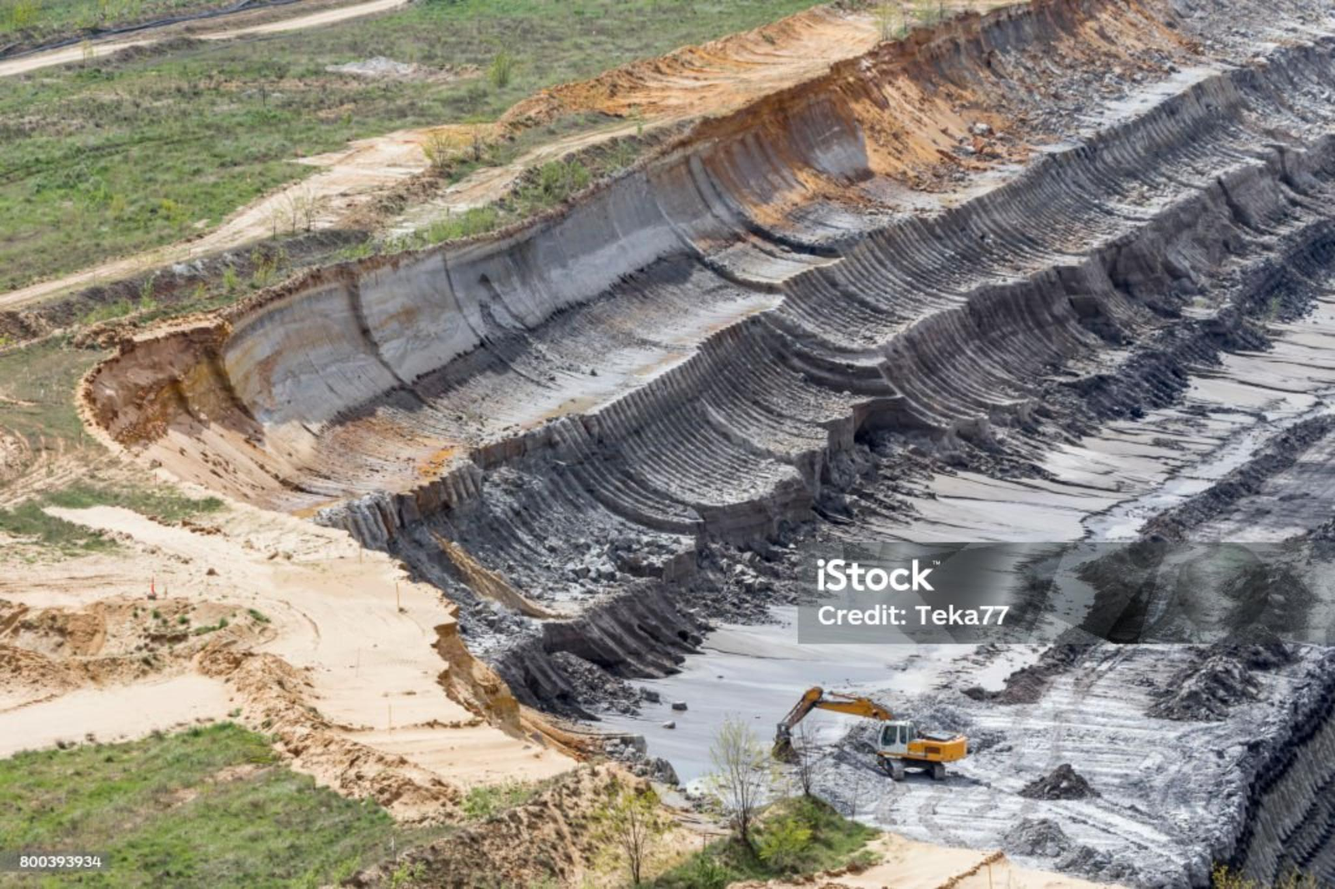excavator: (808, 695, 969, 780), (773, 707, 971, 776), (877, 720, 963, 752), (961, 686, 1001, 701)
